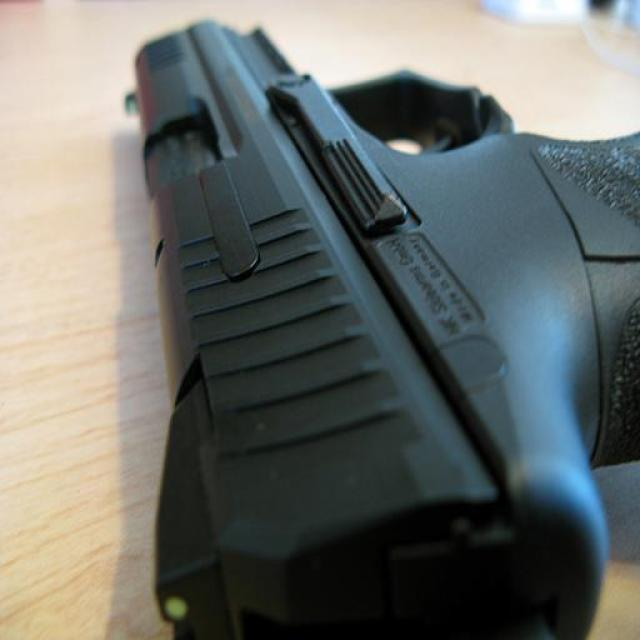pistol: (123, 21, 638, 636)
